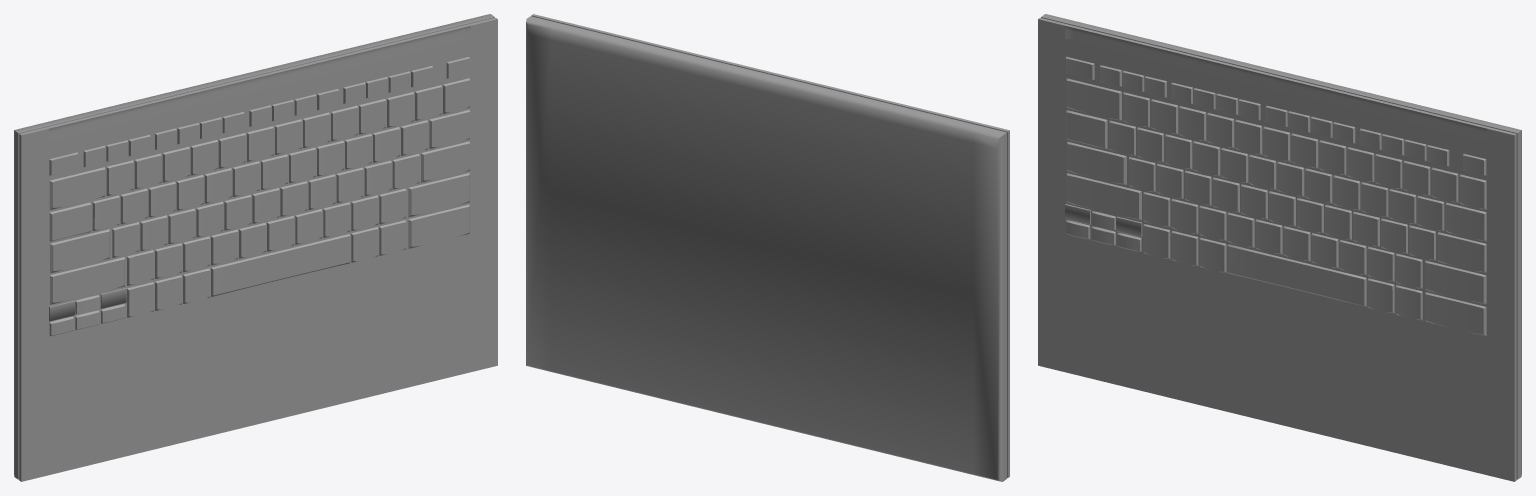
Rendered from MainMeshLaptop_8_1_GeomSubset_0.obj.
3 views of the same model, side by side, from view 1: azimuth 30°, elevation 25°; view 2: azimuth 150°, elevation 25°; view 3: azimuth 330°, elevation 25° (orthographic).
Visible parts, largest first — view 1: MainMeshLaptop_8_1_GeomSubset_0; view 2: MainMeshLaptop_8_1_GeomSubset_0; view 3: MainMeshLaptop_8_1_GeomSubset_0.
Part boxes in pixels (left/top/right/bottom): MainMeshLaptop_8_1_GeomSubset_0: left=14, top=14, right=497, bottom=481; MainMeshLaptop_8_1_GeomSubset_0: left=526, top=14, right=1009, bottom=481; MainMeshLaptop_8_1_GeomSubset_0: left=1038, top=14, right=1521, bottom=481.
Bounding box in the file's own units: 0.3947 × 0.2743 × 0.0152.
